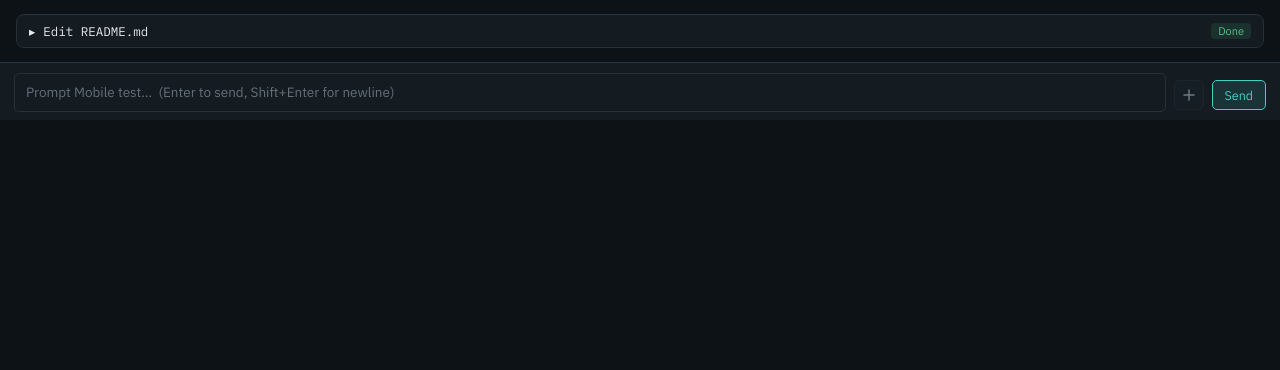
TranscriptPane tool diffs › renders ACP edit content with the shared colored unified diff
This screenshot has width=1280, height=370.
Click the text "Edit README.md" at coordinates (96, 31), box [43,23,148,39]
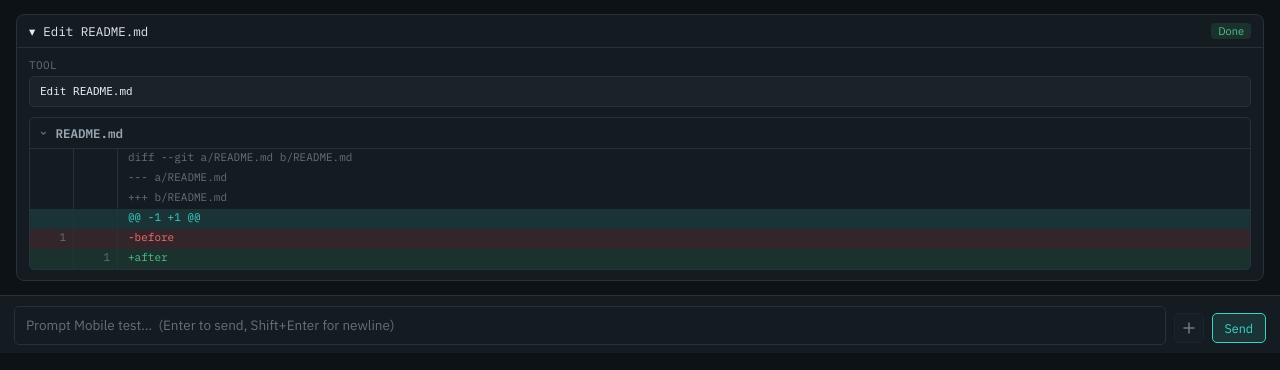
Check: the element with class "diff-file" is shown, box [29,117,1251,270]
Check: the text with class "diff-text" reads "-before", box [128,230,174,244]
Check: the text with class "diff-text" reads "+after", box [128,250,168,264]
